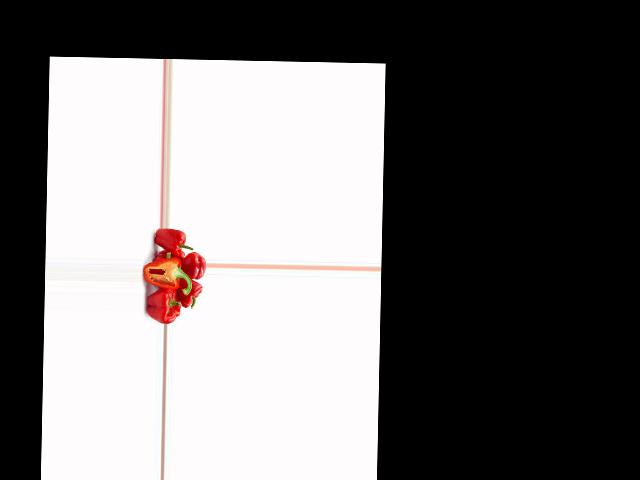bell_pepper: (178, 278, 202, 309)
